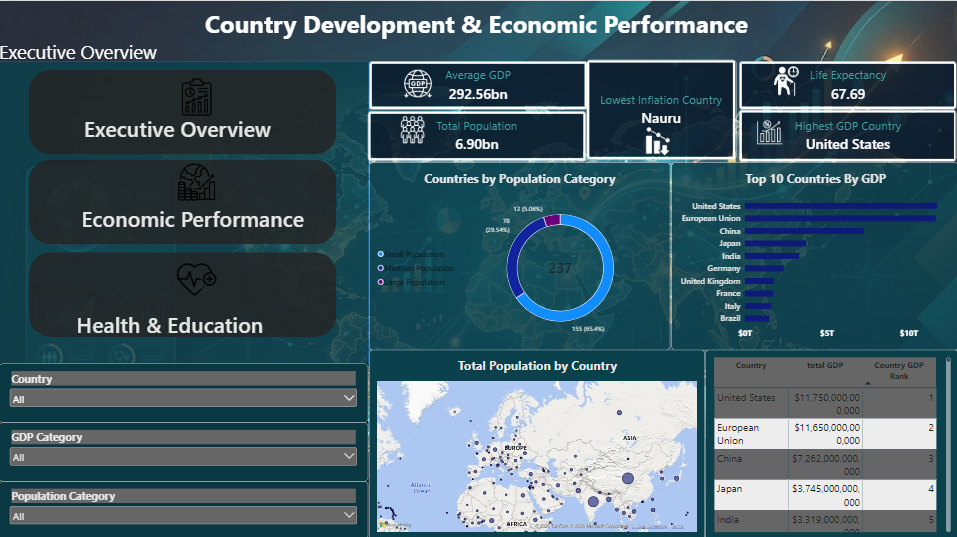

The dashboard page shown, as its layout file describes it:
{"tool":"powerbi","page":{"name":"Executive Overview","canvas":[1920,1080],"ordinal":0},"visuals":[{"type":"cardVisual","fields":{"Data":["DAX.Average Life Expectancy"]},"box":[1360.6,119.4,555.7,98.8],"z":0,"group":"g1"},{"type":"cardVisual","fields":{"Data":["DAX.Lowest Inflation Country"]},"box":[1060,121.4,300,200.2],"z":0,"group":"g5"},{"type":"shape","box":[0,127.5,607.5,602.5],"z":0,"group":"g7"},{"type":"cardVisual","fields":{"Data":["DAX.Average GDP"]},"box":[607.2,127.6,454,97.5],"z":0,"group":"g2"},{"type":"cardVisual","fields":{"Data":["DAX.Highest GDP Country"]},"box":[1350.5,218.2,567.8,102.9],"z":0,"group":"g4"},{"type":"cardVisual","fields":{"Data":["DAX.Total Population"]},"box":[607.2,224.4,453.5,101],"z":0,"group":"g3"},{"type":"slicer","fields":{"Values":["countries.Country"]},"box":[0,726.6,607.2,118],"z":0,"group":"g6"},{"type":"textbox","box":[0,12,1918,106],"z":1000},{"type":"image","box":[1360.6,130.6,241.1,61.5],"z":1000,"group":"g1"},{"type":"shape","box":[49.9,139.8,520.5,169.3],"z":1000,"group":"g7"},{"type":"image","box":[628.2,144.2,162.3,55.2],"z":1000,"group":"g2"},{"type":"image","box":[622.8,230.9,155.7,59.8],"z":1000,"group":"g3"},{"type":"image","box":[1317.3,238.9,226.7,49.8],"z":1000,"group":"g4"},{"type":"image","box":[1109.8,257,185,56],"z":1000,"group":"g5"},{"type":"slicer","fields":{"Values":["countries.Population Category"]},"box":[0,962.6,607.2,118],"z":1000,"group":"g6"},{"type":"group","id":"g1","title":"Group 2","box":[1360.6,119.4,555.7,98.8],"z":2000},{"type":"textbox","box":[133.7,238.7,396.4,75],"z":2000,"group":"g7"},{"type":"slicer","fields":{"Values":["countries.GDP Category"]},"box":[0,844.6,607.2,118],"z":2000,"group":"g6"},{"type":"group","id":"g2","title":"Group 3","box":[607.2,127.6,452.8,98.8],"z":3000},{"type":"shape","box":[49.9,319,520.5,169.3],"z":3000,"group":"g7"},{"type":"group","id":"g3","title":"Group 3","box":[607.2,224.4,452.8,100.9],"z":4000},{"type":"shape","box":[49.9,504.4,520.5,169.3],"z":4000,"group":"g7"},{"type":"image","title":"Economic Performance Analysis","box":[229.9,154.8,207.7,79.6],"z":5000,"group":"g7"},{"type":"group","id":"g4","title":"Group 2","box":[1317.3,218.2,601,102.9],"z":5000},{"type":"clusteredBarChart","title":"Top 10 Countries By GDP","fields":{"Category":["countries.Country"],"Y":["DAX.total GDP"]},"box":[1344,322,576,376],"z":6000},{"type":"image","title":"Economic Performance Analysis","box":[229.9,518.2,207.7,79.6],"z":6000,"group":"g7"},{"type":"group","id":"g5","title":"Group 2","box":[1060,121.4,300.5,199.7],"z":7000},{"type":"textbox","box":[102.8,419.3,461.8,74.1],"z":7000,"group":"g7"},{"type":"donutChart","title":"Countries by Population Category","fields":{"Category":["countries.Population Category"],"Y":["Count(countries.c_id)"]},"box":[607.2,321.1,734.8,376.7],"z":8000},{"type":"image","title":"Economic Performance Analysis","box":[229.9,323.5,207.7,79.6],"z":8000,"group":"g7"},{"type":"textbox","box":[124.3,608.7,417.5,87.5],"z":9000,"group":"g7"},{"type":"map","fields":{"Category":["countries.Country"],"Size":["DAX.Total Population"]},"box":[607.2,697.8,710.1,382.8],"z":9000},{"type":"tableEx","fields":{"Values":["DAX.Country GDP Rank","countries.Country","DAX.total GDP"]},"box":[1317.3,697.8,601,382.8],"z":10000},{"type":"group","id":"g6","title":"Group 4","box":[0,726.6,607.2,354],"z":11000},{"type":"image","box":[120,0,365.1,117.4],"z":12000},{"type":"group","id":"g7","title":"Group 1","box":[0,127.5,607.5,602.5],"z":13001}]}

Visuals, with their boxes on the page's 1920x1080 design canvas (x1, y1, x2, y2). These are canvas units, not pixel positions in the 957x537 screenshot, which may show the page scaled, cropped or inside an application window:
cardVisual - DAX.Average Life Expectancy: (left=1361, top=119, right=1916, bottom=218)
cardVisual - DAX.Lowest Inflation Country: (left=1060, top=121, right=1360, bottom=322)
shape: (left=0, top=128, right=608, bottom=730)
cardVisual - DAX.Average GDP: (left=607, top=128, right=1061, bottom=225)
cardVisual - DAX.Highest GDP Country: (left=1350, top=218, right=1918, bottom=321)
cardVisual - DAX.Total Population: (left=607, top=224, right=1061, bottom=325)
slicer - countries.Country: (left=0, top=727, right=607, bottom=845)
textbox: (left=0, top=12, right=1918, bottom=118)
image: (left=1361, top=131, right=1602, bottom=192)
shape: (left=50, top=140, right=570, bottom=309)
image: (left=628, top=144, right=790, bottom=199)
image: (left=623, top=231, right=778, bottom=291)
image: (left=1317, top=239, right=1544, bottom=289)
image: (left=1110, top=257, right=1295, bottom=313)
slicer - countries.Population Category: (left=0, top=963, right=607, bottom=1081)
"Group 2" group: (left=1361, top=119, right=1916, bottom=218)
textbox: (left=134, top=239, right=530, bottom=314)
slicer - countries.GDP Category: (left=0, top=845, right=607, bottom=963)
"Group 3" group: (left=607, top=128, right=1060, bottom=226)
shape: (left=50, top=319, right=570, bottom=488)
"Group 3" group: (left=607, top=224, right=1060, bottom=325)
shape: (left=50, top=504, right=570, bottom=674)
"Economic Performance Analysis" image: (left=230, top=155, right=438, bottom=234)
"Group 2" group: (left=1317, top=218, right=1918, bottom=321)
"Top 10 Countries By GDP" clusteredBarChart: (left=1344, top=322, right=1920, bottom=698)
"Economic Performance Analysis" image: (left=230, top=518, right=438, bottom=598)
"Group 2" group: (left=1060, top=121, right=1360, bottom=321)
textbox: (left=103, top=419, right=565, bottom=493)
"Countries by Population Category" donutChart: (left=607, top=321, right=1342, bottom=698)
"Economic Performance Analysis" image: (left=230, top=324, right=438, bottom=403)
textbox: (left=124, top=609, right=542, bottom=696)
map - countries.Country x DAX.Total Population: (left=607, top=698, right=1317, bottom=1081)
tableEx - DAX.Country GDP Rank x countries.Country: (left=1317, top=698, right=1918, bottom=1081)
"Group 4" group: (left=0, top=727, right=607, bottom=1081)
image: (left=120, top=0, right=485, bottom=117)
"Group 1" group: (left=0, top=128, right=608, bottom=730)
